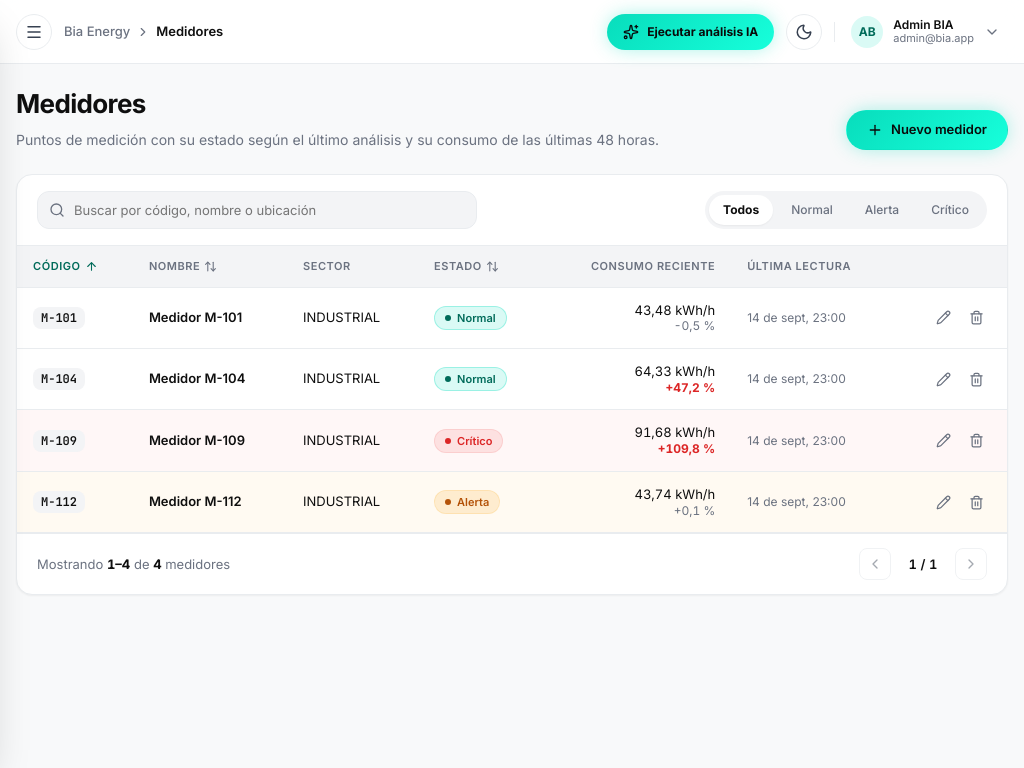
MetersPage › asks for confirmation before deleting and refreshes the list
The image size is (1024, 768).
Step 1. Click the button named "Eliminar M-104" → point(976, 379), box [962,365,991,394]
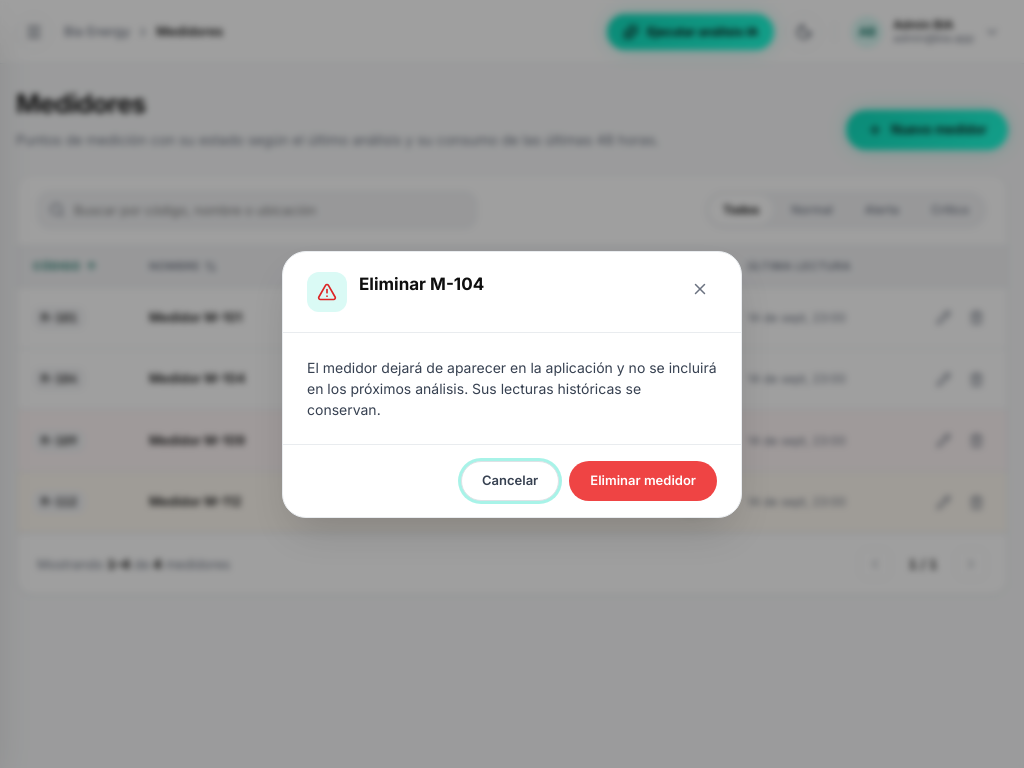
Step 2. Click the button "Eliminar medidor" → point(643, 480), box [569,460,717,500]
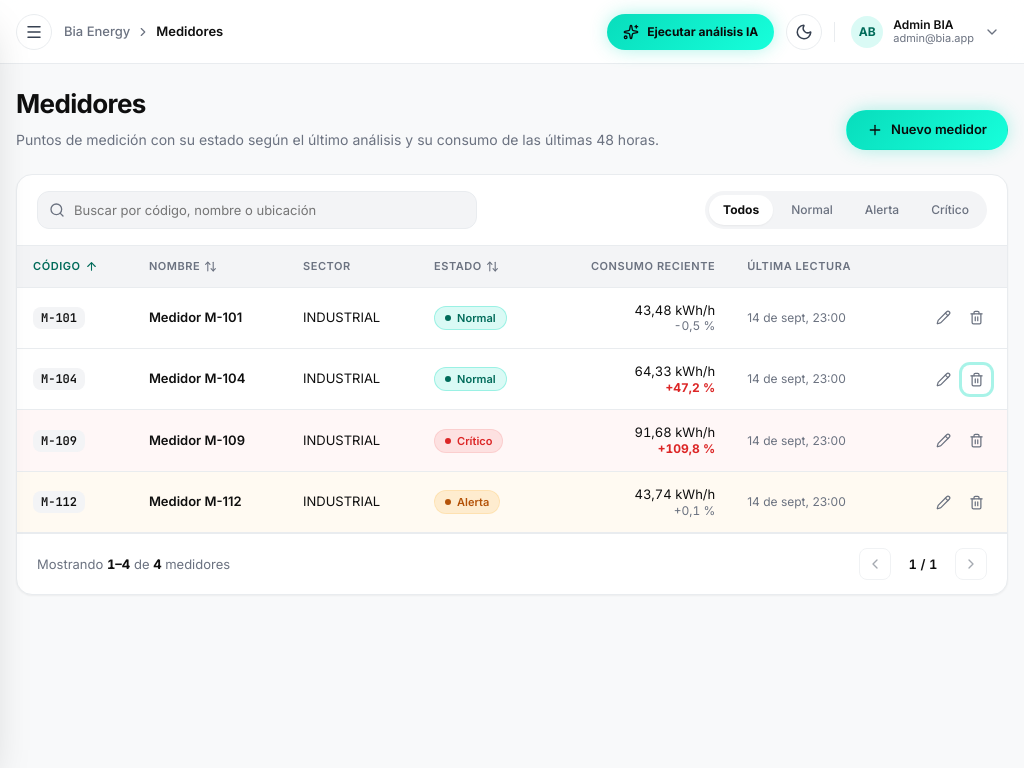
Expected: the dialog is gone
